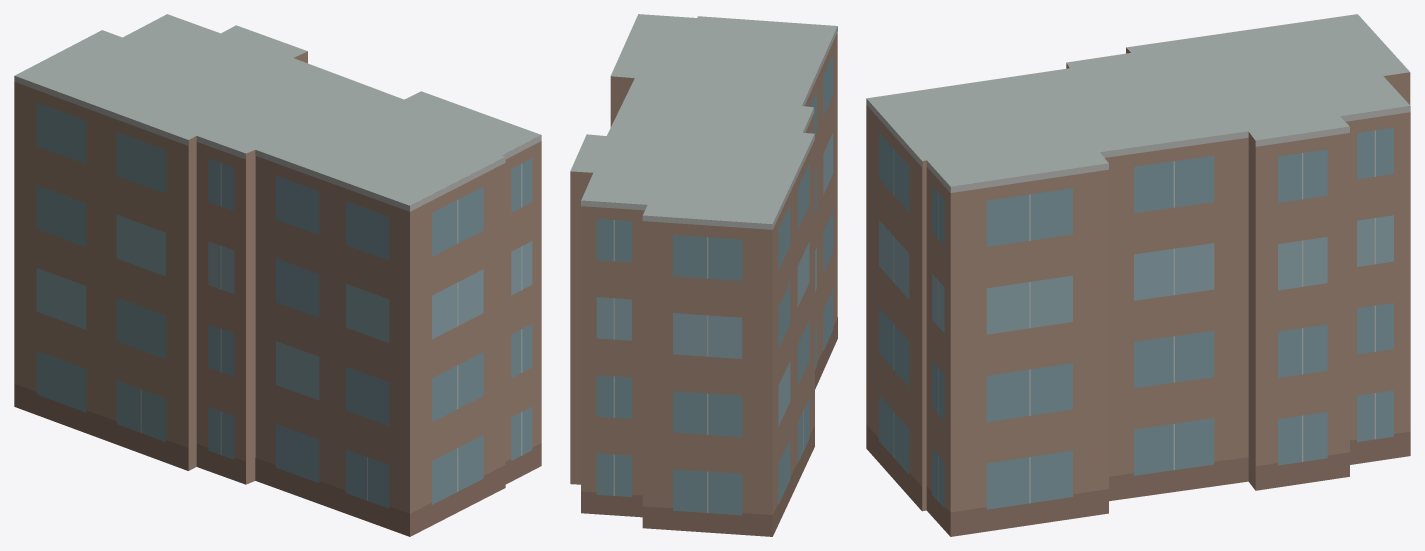
File: survey-upis-32759749.glb
3 views of the same model, side by side, from view 1: azimuth 30°, elevation 25°; view 2: azimuth 150°, elevation 25°; view 3: azimuth 270°, elevation 25° (orthographic). The views are drawn at different scales.
Parts seen in each view (by area): view 1: survey-upis-32759749.tmp; view 2: survey-upis-32759749.tmp; view 3: survey-upis-32759749.tmp.
Part boxes in pixels (box(x1,y1,x2,y2)): survey-upis-32759749.tmp: box(14, 14, 541, 536); survey-upis-32759749.tmp: box(570, 14, 837, 536); survey-upis-32759749.tmp: box(866, 14, 1410, 536).
Bounding box in the file's own units: 14.29 × 13.5 × 19.03.
